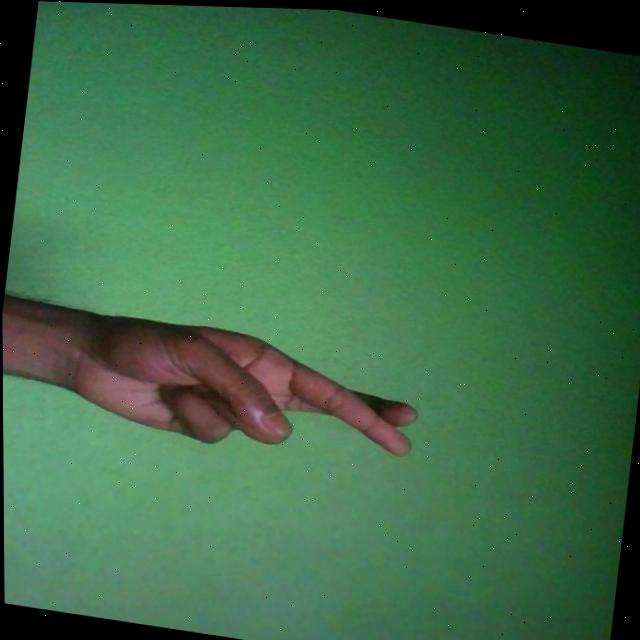Good Luck: (55, 304, 425, 472)
